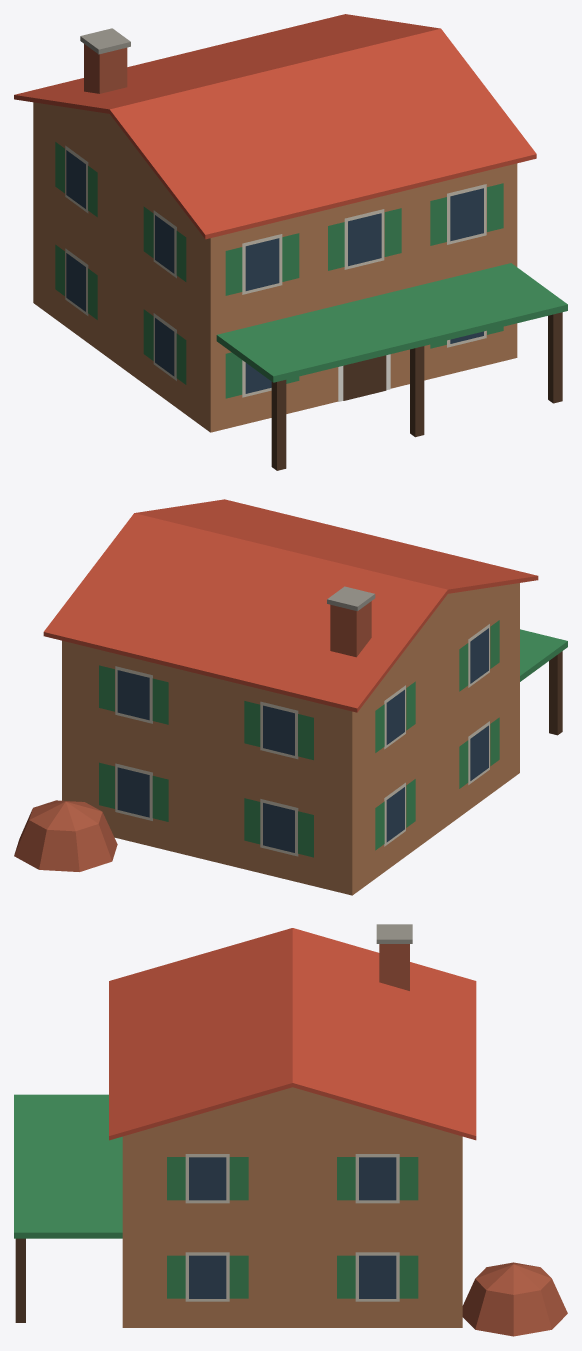
File: pizzeria.glb
3 views of the same model, one above another, from view 1: azimuth 30°, elevation 25°; view 2: azimuth 150°, elevation 25°; view 3: azimuth 270°, elevation 25° (orthographic). The views are drawn at different scales.
Parts seen in each view (by area): view 1: pizzeria; view 2: pizzeria; view 3: pizzeria.
Part boxes in pixels (box(x1,y1,x2,y2)): pizzeria: box(14, 14, 567, 470); pizzeria: box(14, 499, 567, 895); pizzeria: box(14, 924, 567, 1336).
Bounding box in the file's own units: 11 × 8.75 × 16.3.
1 material, 1 textured.
